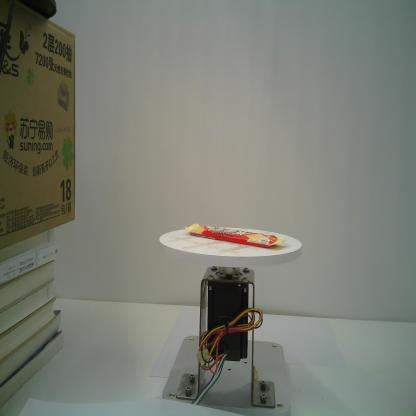Chocolate: (183, 222, 288, 249)
